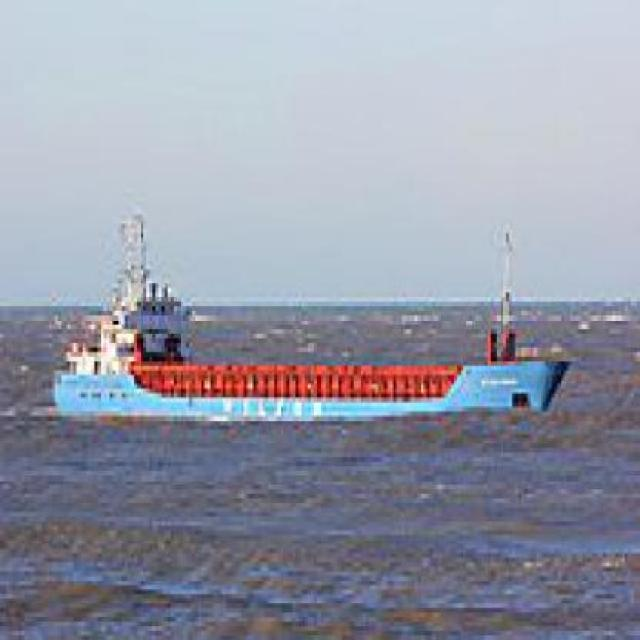container: (50, 170, 577, 436)
